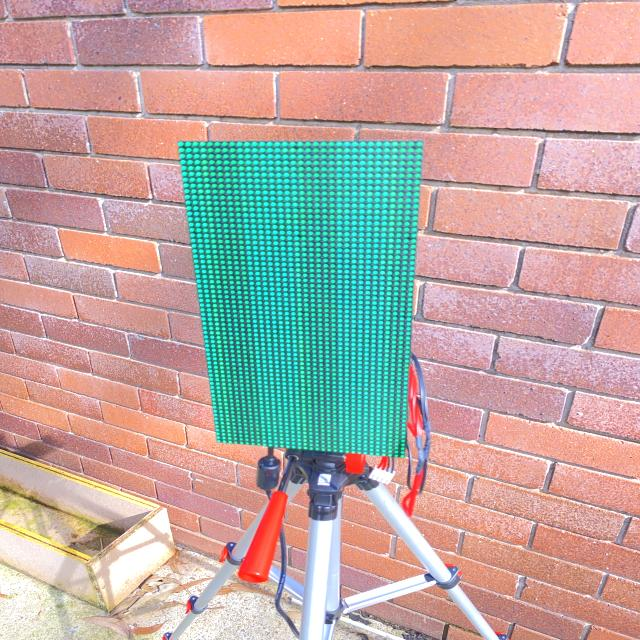matrix: (164, 127, 441, 464)
